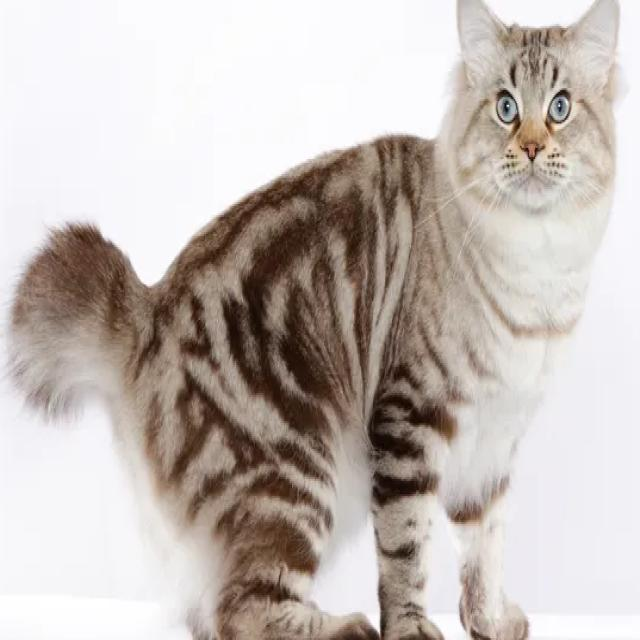American Bobtail: (5, 0, 627, 640)
